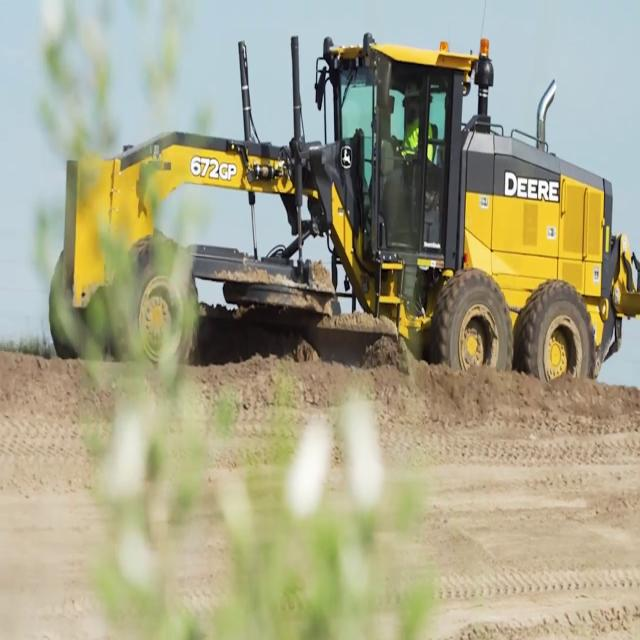buldozerpayloadergrader: (48, 40, 640, 380)
